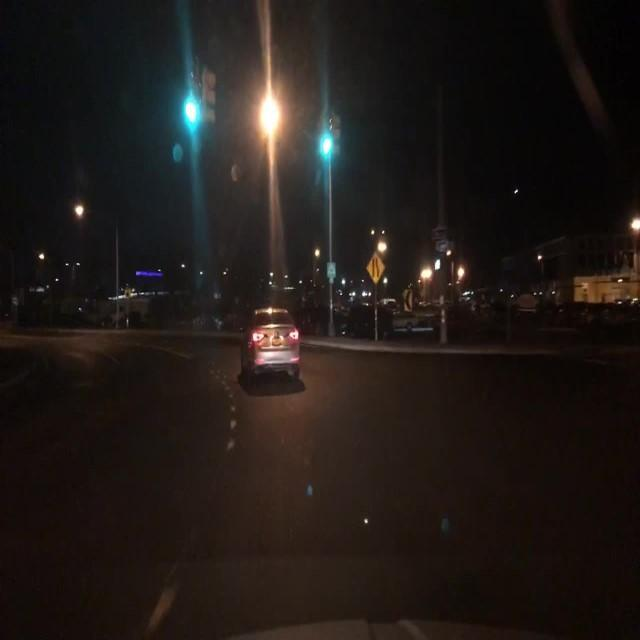normal: (241, 307, 304, 390)
